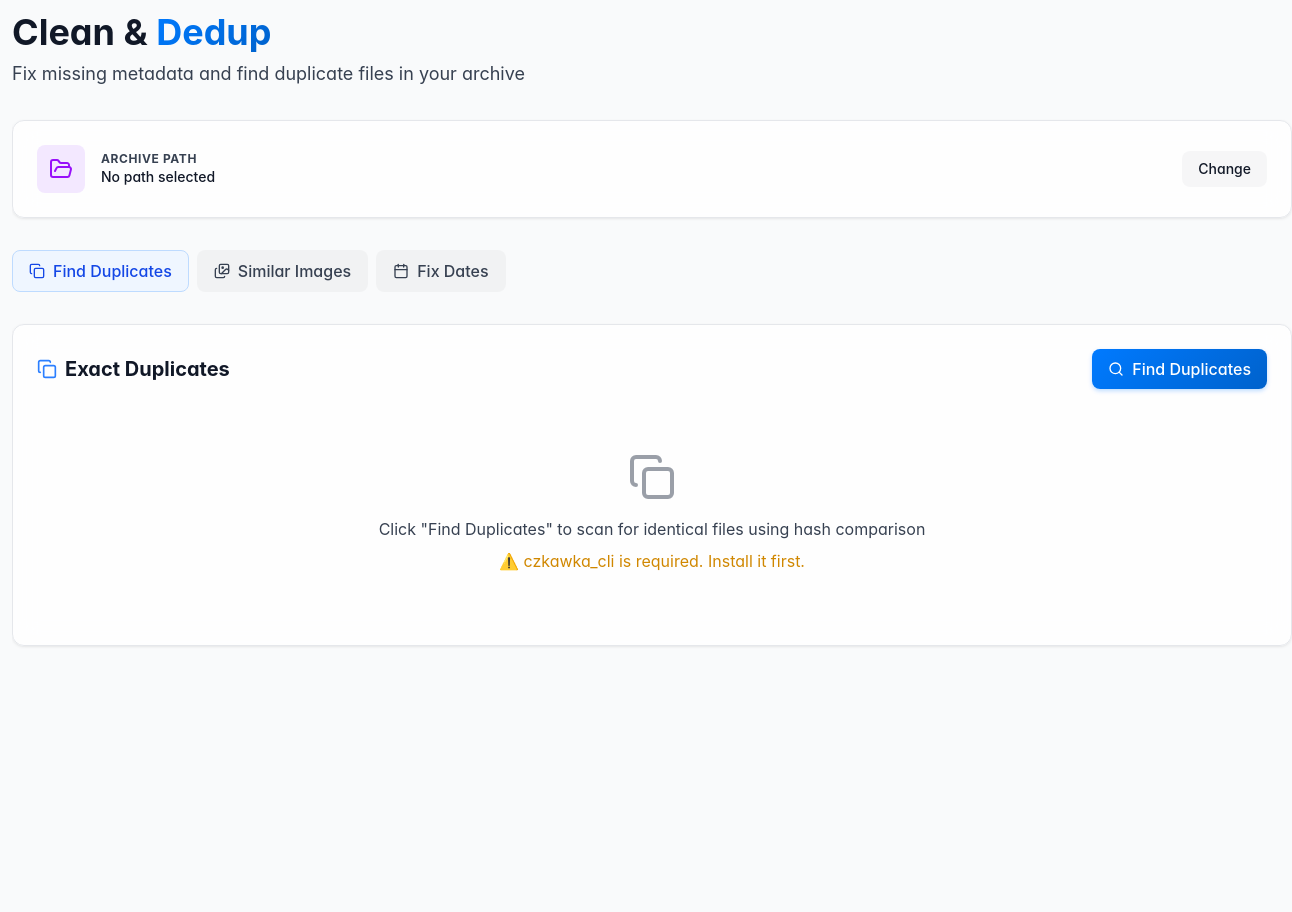
Scenario: Clean Page › enables scan button when path is selected
Click the button "Change" at (1225, 169), box [1182, 151, 1267, 187]
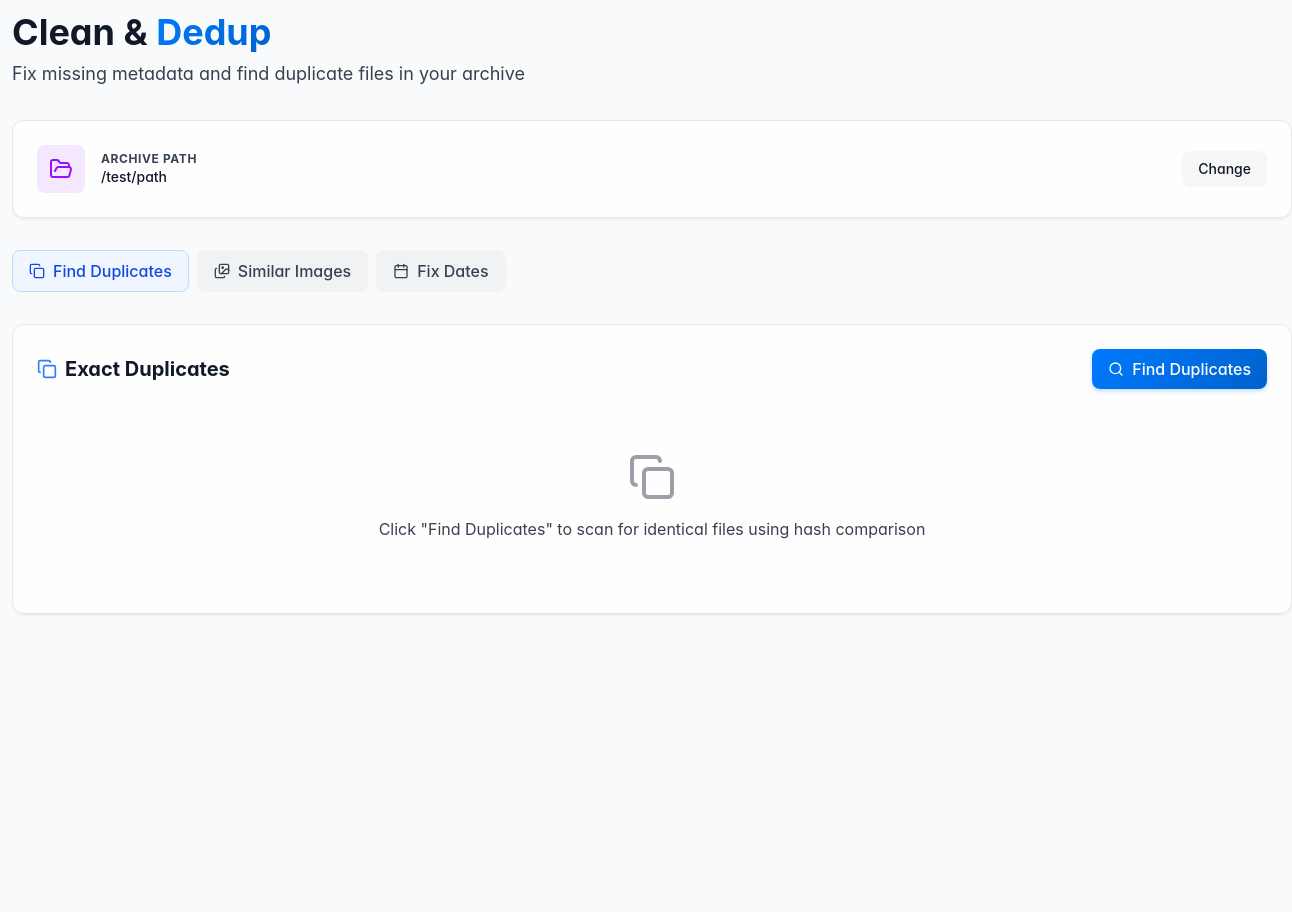
Check: the button "Find Duplicates" in the row of "Exact Duplicates" is enabled, box [1092, 349, 1267, 389]
Check: the text "/test/path" is shown, box [101, 168, 167, 185]
